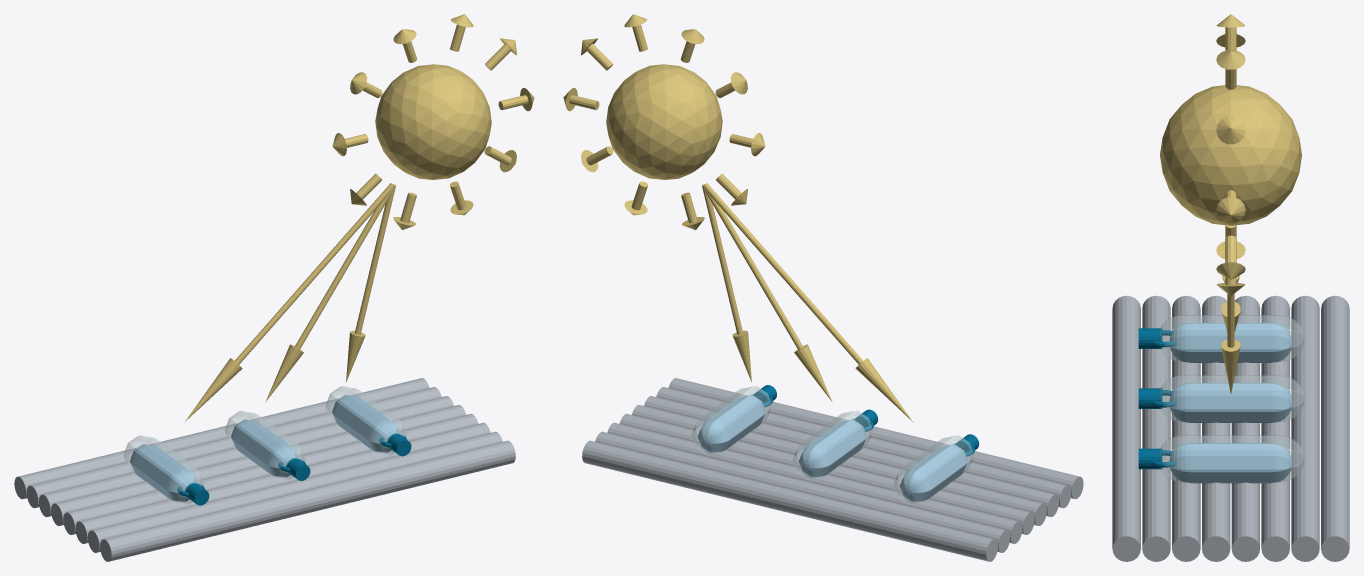
3 views of the same model, side by side, from view 1: azimuth 30°, elevation 25°; view 2: azimuth 150°, elevation 25°; view 3: azimuth 270°, elevation 25° (orthographic). The views are drawn at different scales.
Parts seen in each view (by area): view 1: part_superficie, part_sol, deco_vidrio, part_agua, deco_rayos, part_botella; view 2: part_superficie, part_sol, deco_vidrio, part_agua, deco_rayos, part_botella; view 3: part_superficie, deco_vidrio, part_sol, part_agua, part_botella, deco_rayos.
Boxes of the visible parts, x1,y1,x2,y2 form: part_superficie: (14,378,515,561); part_sol: (332,14,534,230); deco_vidrio: (123,386,406,504); part_agua: (130,395,399,501); deco_rayos: (184,183,395,422); part_botella: (177,433,411,505); part_superficie: (582,378,1083,561); part_sol: (563,14,765,230); deco_vidrio: (691,386,974,504); part_agua: (698,395,967,501); deco_rayos: (702,183,913,422); part_botella: (751,385,979,456); part_superficie: (1112,295,1349,561); deco_vidrio: (1160,315,1304,482); part_sol: (1160,14,1301,295); part_agua: (1169,323,1292,483); part_botella: (1138,328,1175,469); deco_rayos: (1221,275,1240,393).
Bounding box in the file's own units: 1.4 × 1.19 × 0.5.
